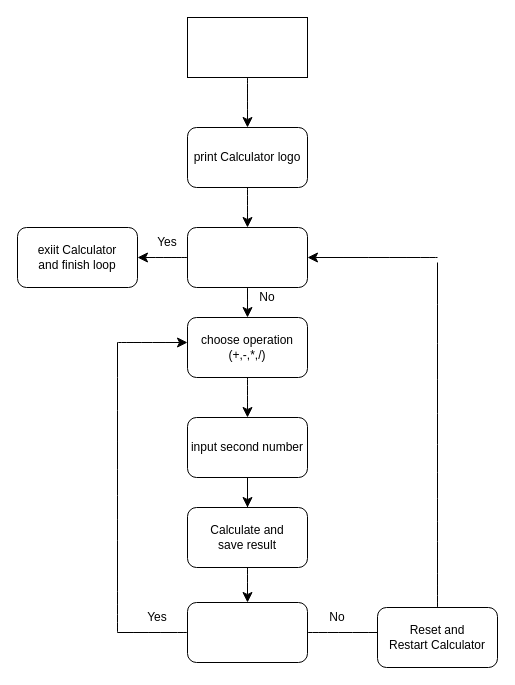
Image size: 515x685. Some labels were removed from this diagram. The centre of each missing label's shape, as x and y in pixels:
Ask continue calculating?: (247,632)
input First number if value == 99: (247,257)
START: (247,47)
